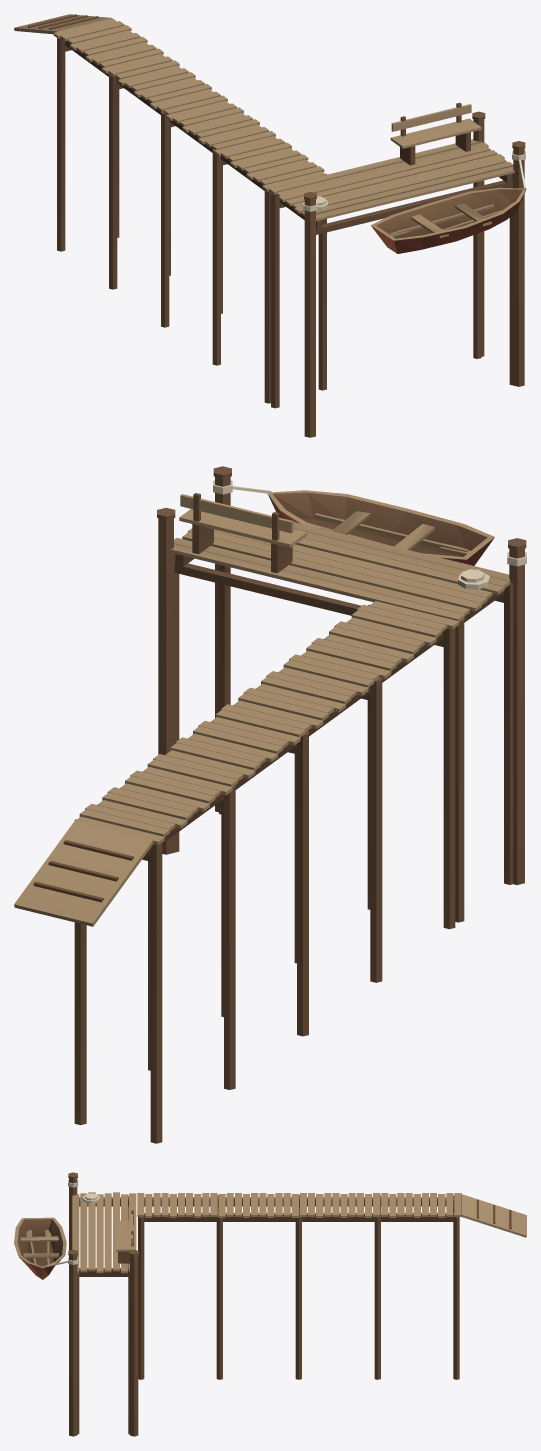
The model's file is pier_1.glb.
The picture shows the model from 3 angles, top to bottom: view 1: azimuth 30°, elevation 25°; view 2: azimuth 150°, elevation 25°; view 3: azimuth 270°, elevation 25°; orthographic projection. The views are drawn at different scales.
Parts seen in each view (by area): view 1: pier_1; view 2: pier_1; view 3: pier_1.
Part boxes in pixels (x1=…): pier_1: x1=14, y1=14, x2=526, y2=437; pier_1: x1=14, y1=466, x2=526, y2=1143; pier_1: x1=14, y1=1172, x2=526, y2=1436.
Size of the model in its own units: 4.8 by 5.3 by 12.62.
